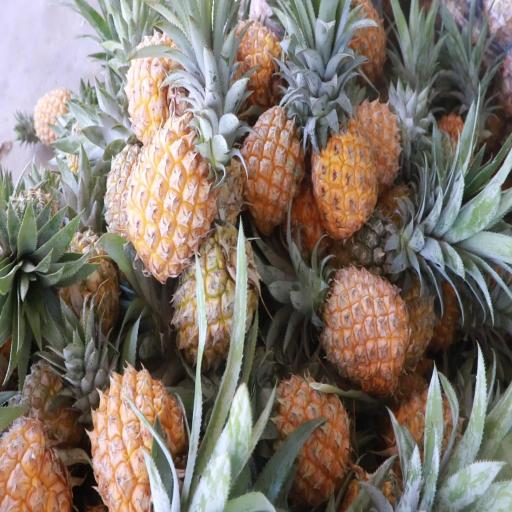------------------------------: (177, 238, 254, 368)
Pineapple - v8 v1: (93, 368, 182, 512), (131, 127, 215, 271), (269, 381, 350, 507), (323, 270, 408, 384), (236, 108, 306, 230), (315, 125, 381, 234), (126, 38, 189, 136), (232, 21, 282, 99)
